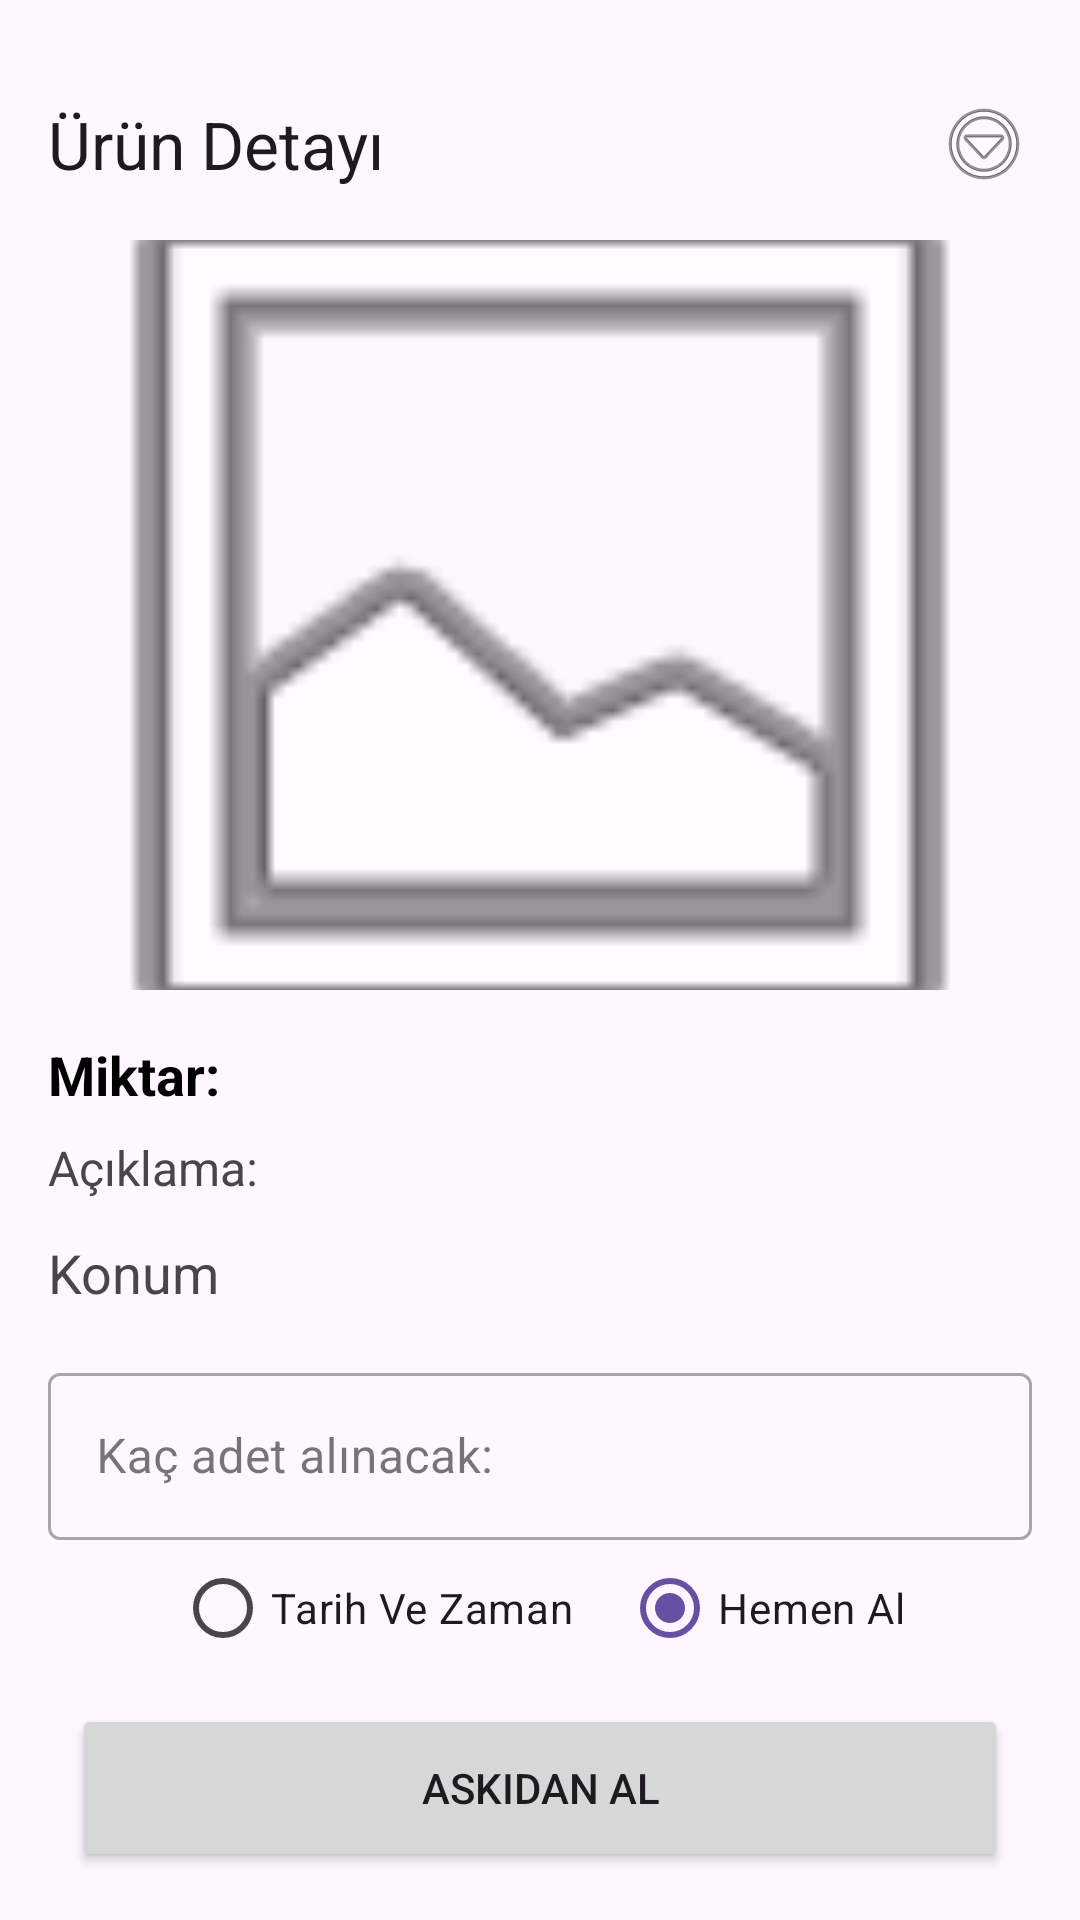

Screen size 1080×1920. Icon name, then its center in pixels as (x,y):
more: (984,144)
